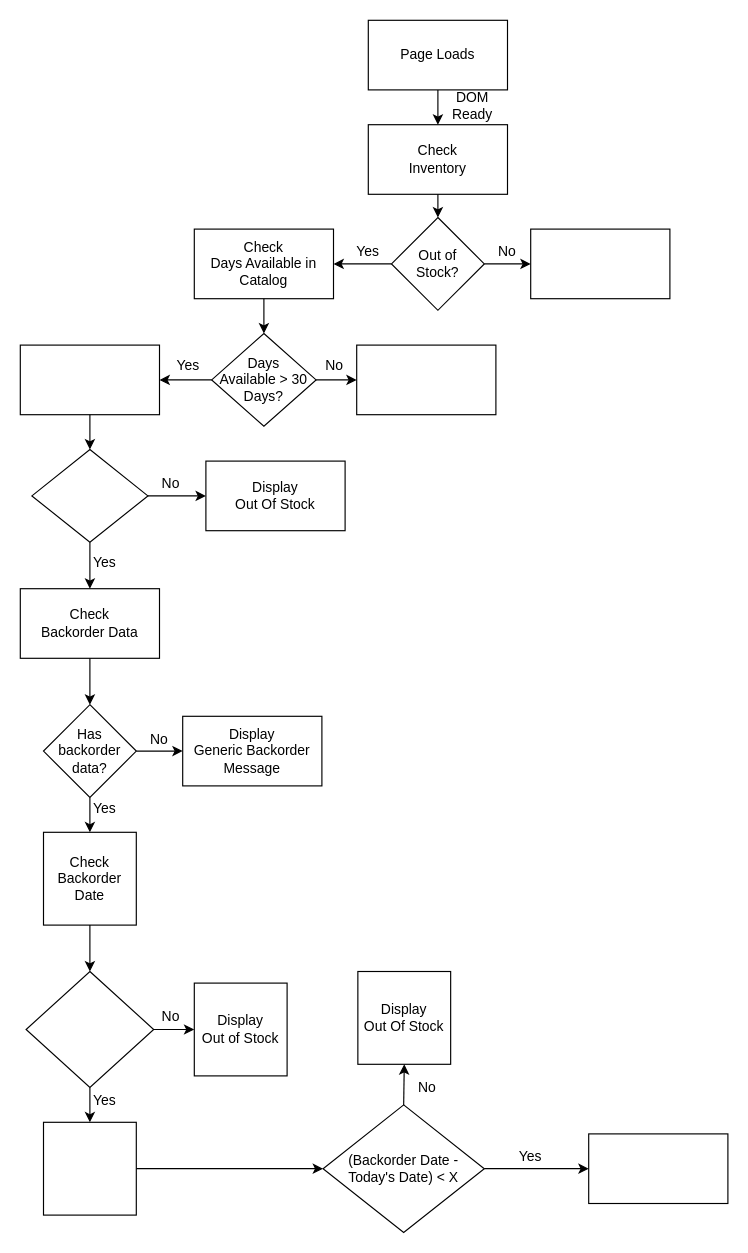
The diagram is 748 pixels wide and 1253 high, and some of its shapes have lost their labels. Here are the shapes that lost their labels. From the top down, the centre of each, then its label:
(600,263): Display Add To Cart
(89,379): Check OutOfStockBehavior
(426,379): Display Coming Soon
(89,495): Allow Backorder?
(89,1029): Backorder date == "null"?
(89,1168): Compare Backorder Date
(658,1168): Display Backorder Message with Backorder Date
